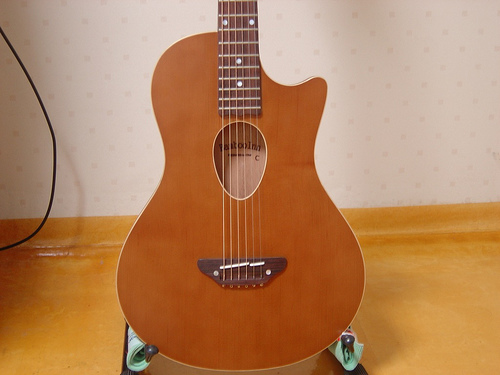guitar: (117, 1, 369, 371)
